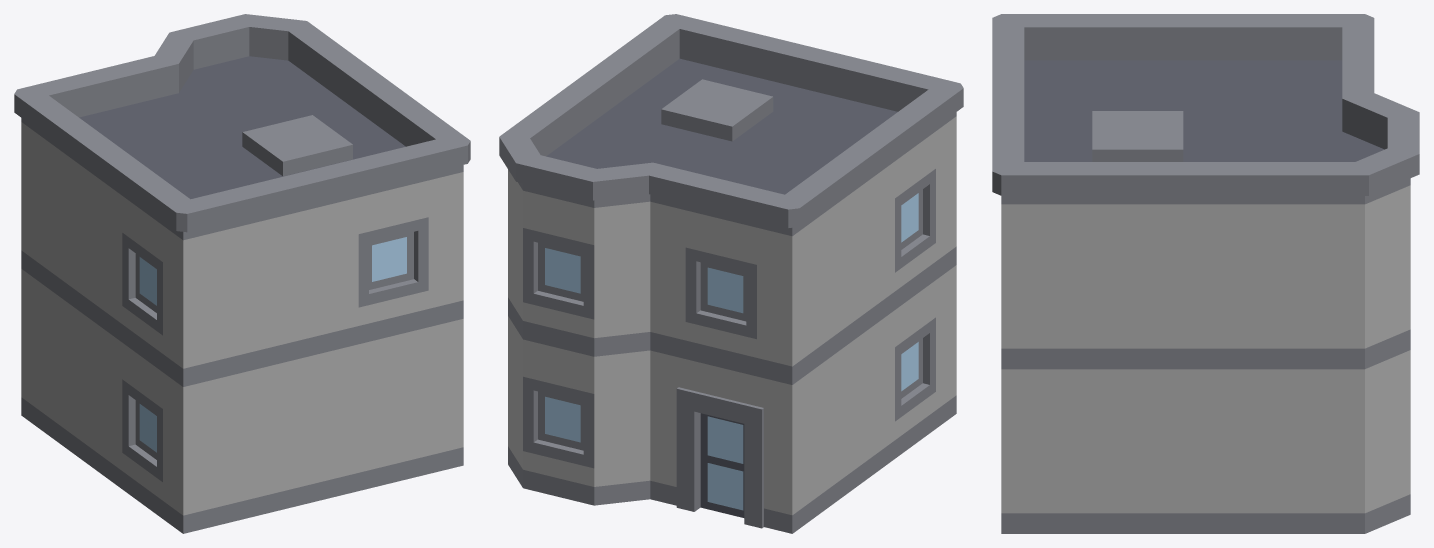
The model's file is small_buildingB.obj.
3 views of the same model, side by side, from view 1: azimuth 30°, elevation 25°; view 2: azimuth 150°, elevation 25°; view 3: azimuth 270°, elevation 25° (orthographic). The views are drawn at different scales.
Parts seen in each view (by area): view 1: small_buildingB; view 2: small_buildingB; view 3: small_buildingB.
Part boxes in pixels (x1=…): small_buildingB: x1=14, y1=14, x2=470, y2=533; small_buildingB: x1=499, y1=14, x2=963, y2=533; small_buildingB: x1=992, y1=14, x2=1419, y2=533.
Bounding box in the file's own units: 0.84 × 0.88 × 0.94.
